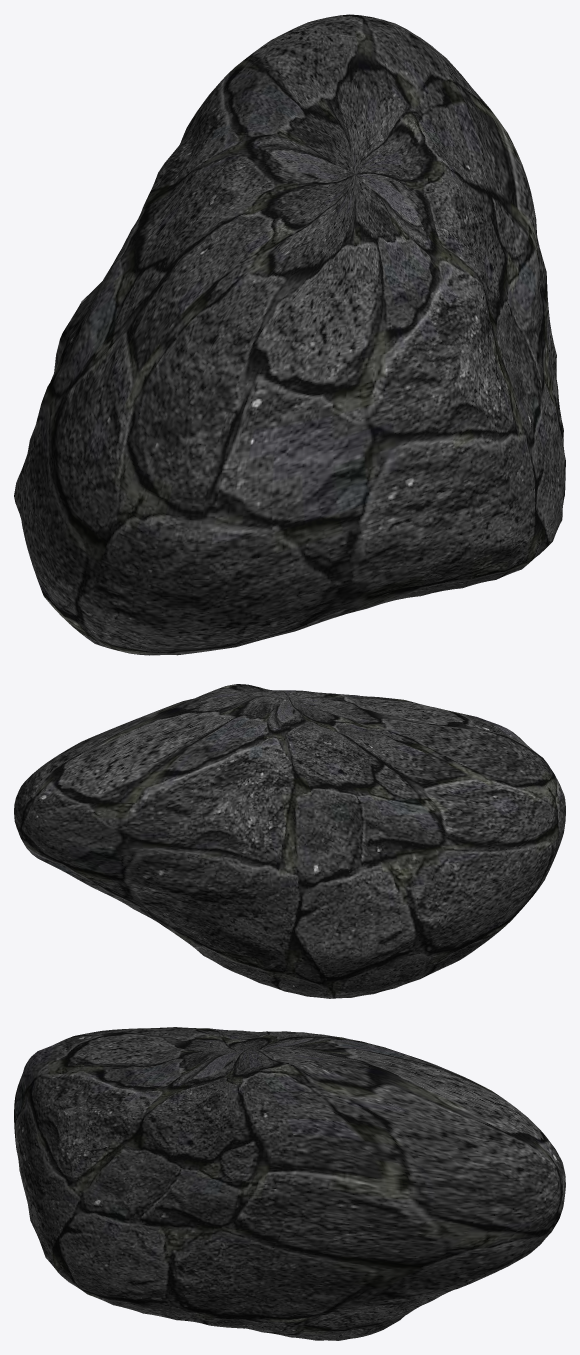
File: Rock2.glb
3 renders of one model, top to bottom at view 1: azimuth 30°, elevation 25°; view 2: azimuth 150°, elevation 25°; view 3: azimuth 270°, elevation 25°, orthographic. The views are drawn at different scales.
Parts seen in each view (by area): view 1: Rock; view 2: Rock; view 3: Rock.
Boxes of the visible parts, x1,y1,x2,y2 form: Rock: (14, 14, 565, 655); Rock: (14, 684, 565, 998); Rock: (14, 1027, 565, 1340).
Size of the model in its own units: 2.39 by 1.6 by 2.58.
Materials: 1 (1 with a texture image).
